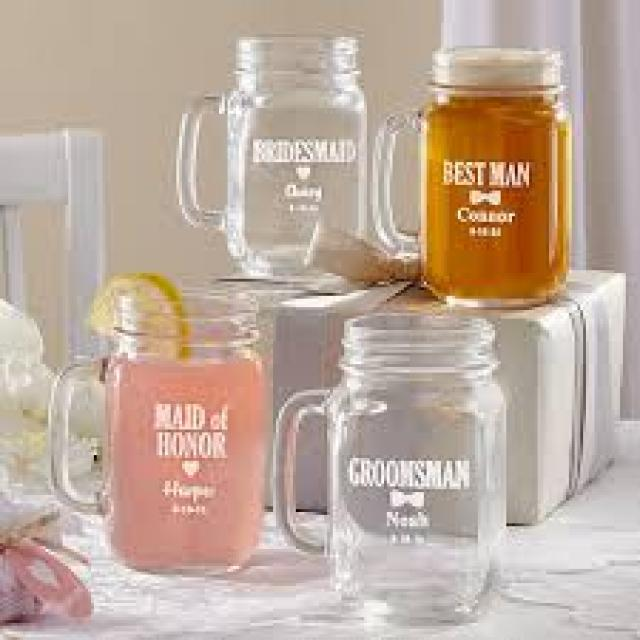organic waste: (424, 91, 563, 302), (88, 273, 188, 356)
